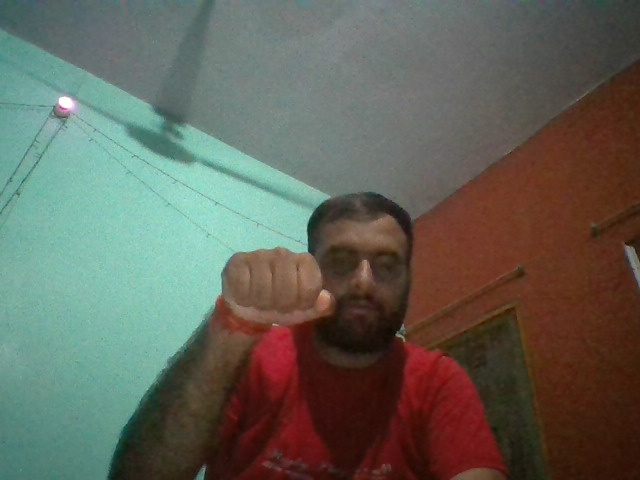yes: (222, 247, 337, 326)
